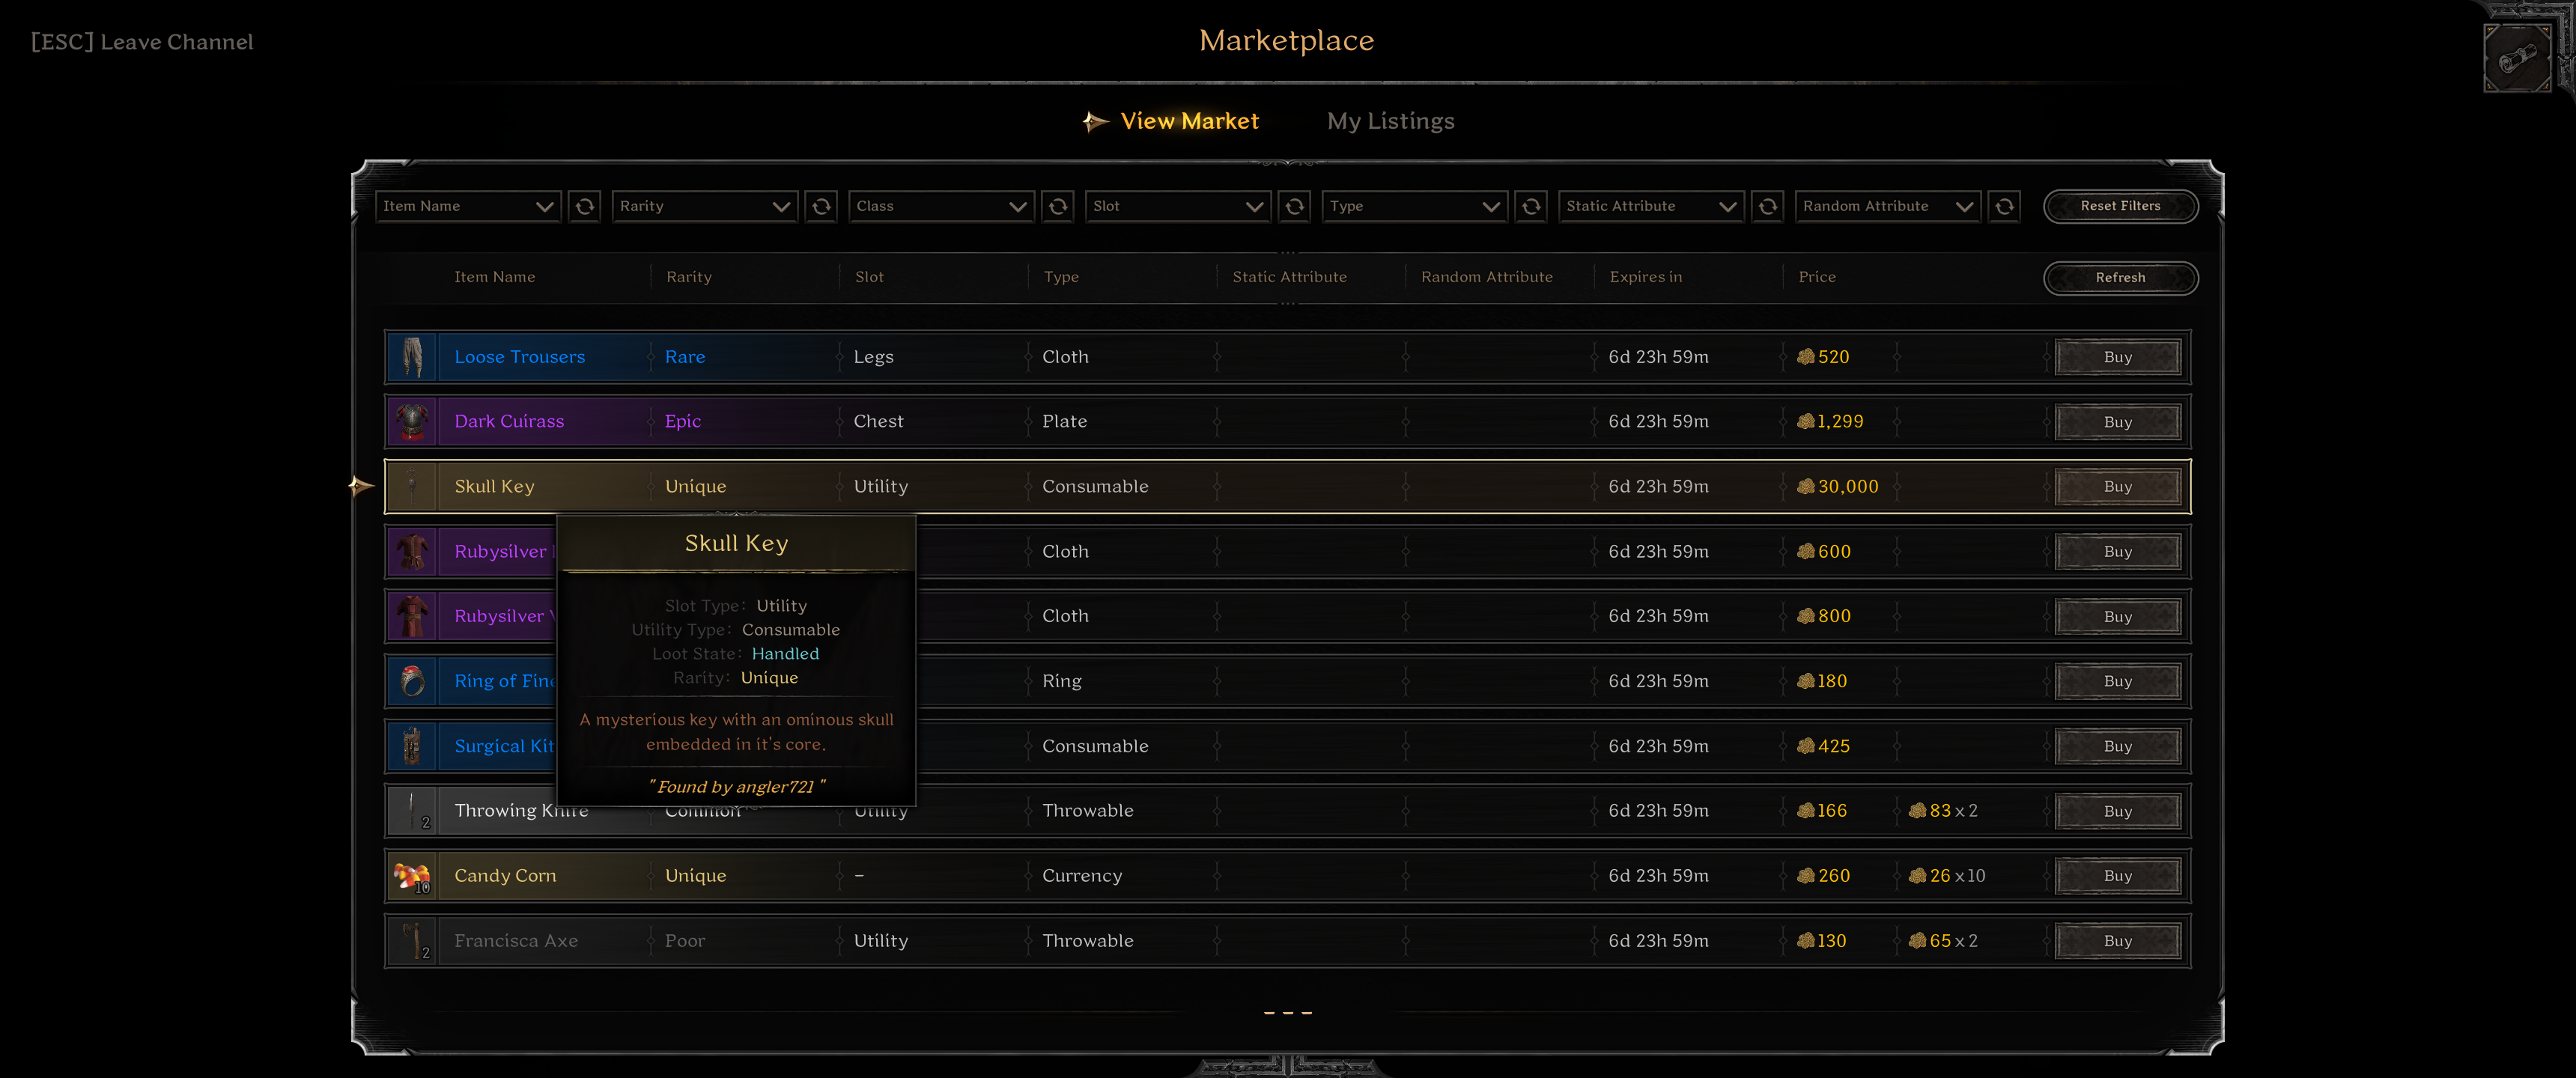Tooltip: (555, 514, 918, 808)
